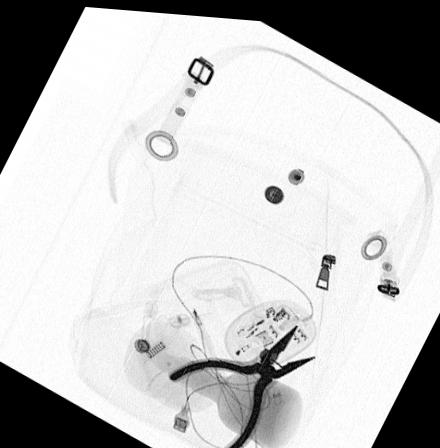Pliers: (166, 315, 316, 448)
